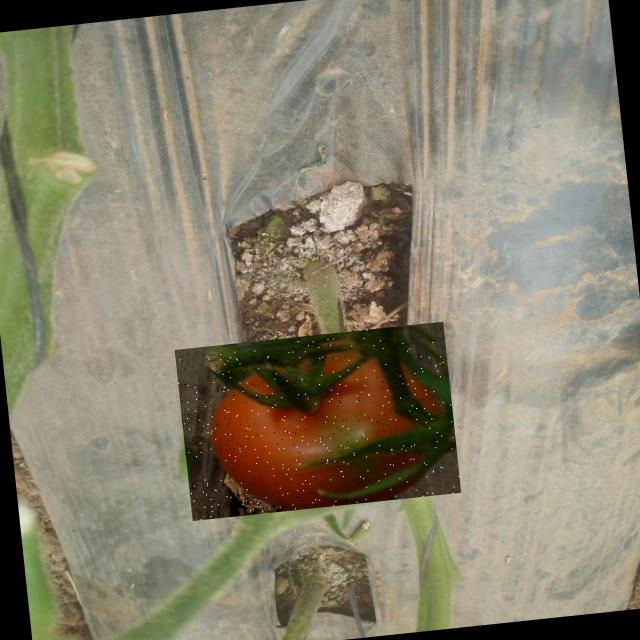Ripe Tomato: (174, 322, 460, 520)
